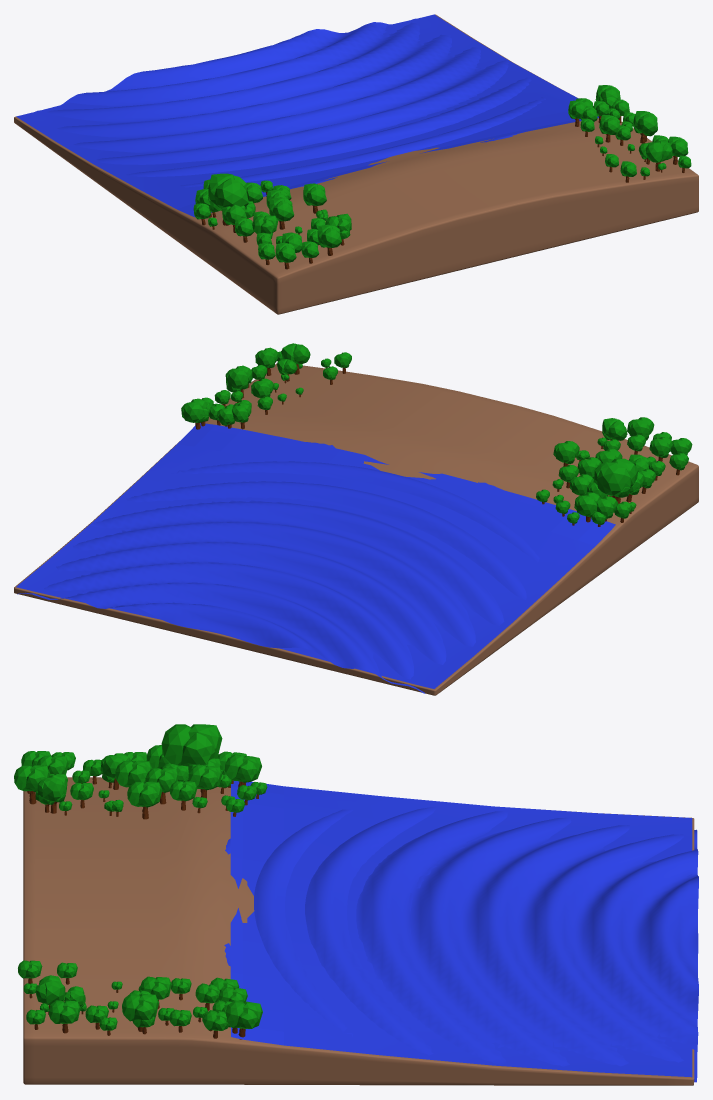
The model's file is 6_Urmimala.fbx.
3 views of the same model, one above another, from view 1: azimuth 30°, elevation 25°; view 2: azimuth 150°, elevation 25°; view 3: azimuth 270°, elevation 25° (orthographic). The views are drawn at different scales.
Parts seen in each view (by area): view 1: Beach_land, Wave, Beach_land001, Icosphere, Icosphere050, Icosphere024, Icosphere021, Icosphere055, Icosphere029; view 2: Wave, Beach_land, Beach_land001, Icosphere, Icosphere048; view 3: Wave, Beach_land, Beach_land001, Icosphere, Icosphere048, Icosphere050, Icosphere032, Icosphere029, Icosphere024, Icosphere026, Icosphere021, Icosphere019 (+4 smaller).
Part boxes in pixels (x1,y1,x2,y2): Beach_land: [14, 14, 698, 314]; Wave: [36, 18, 545, 187]; Beach_land001: [16, 14, 598, 217]; Icosphere: [208, 173, 248, 225]; Icosphere050: [633, 111, 657, 143]; Icosphere024: [317, 224, 341, 255]; Icosphere021: [269, 197, 294, 229]; Icosphere055: [645, 139, 672, 171]; Icosphere029: [303, 183, 326, 213]; Wave: [17, 442, 539, 693]; Beach_land: [14, 363, 698, 695]; Beach_land001: [16, 423, 615, 688]; Icosphere: [593, 458, 638, 503]; Icosphere048: [181, 398, 207, 429]; Wave: [224, 807, 698, 1082]; Beach_land: [23, 777, 694, 1085]; Beach_land001: [230, 781, 692, 1077]; Icosphere: [161, 724, 222, 781]; Icosphere048: [225, 1000, 262, 1039]; Icosphere050: [122, 993, 158, 1031]; Icosphere032: [224, 754, 261, 787]; Icosphere029: [127, 781, 162, 819]; Icosphere024: [14, 765, 50, 804]; Icosphere026: [37, 774, 67, 813]; Icosphere021: [115, 760, 152, 787]; Icosphere019: [188, 765, 222, 798].
Bounding box in the file's own units: 368 × 69.58 × 395.
